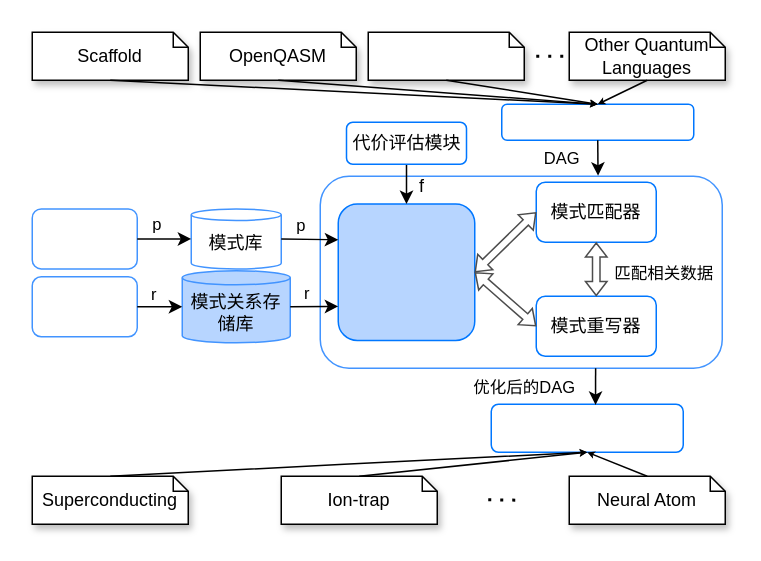
Image size: 761x561. Some labels were removed from this diagram. Here are the shapes that lost their labels. From the top down, the centre of each, then its label:
(x=447, y=58): QPanda
(x=597, y=121): 编译器前端
(x=84, y=238): 模式生成器
(x=406, y=271): 模式调度器
(x=84, y=306): 模式关系提取器
(x=586, y=427): 编译前后端
